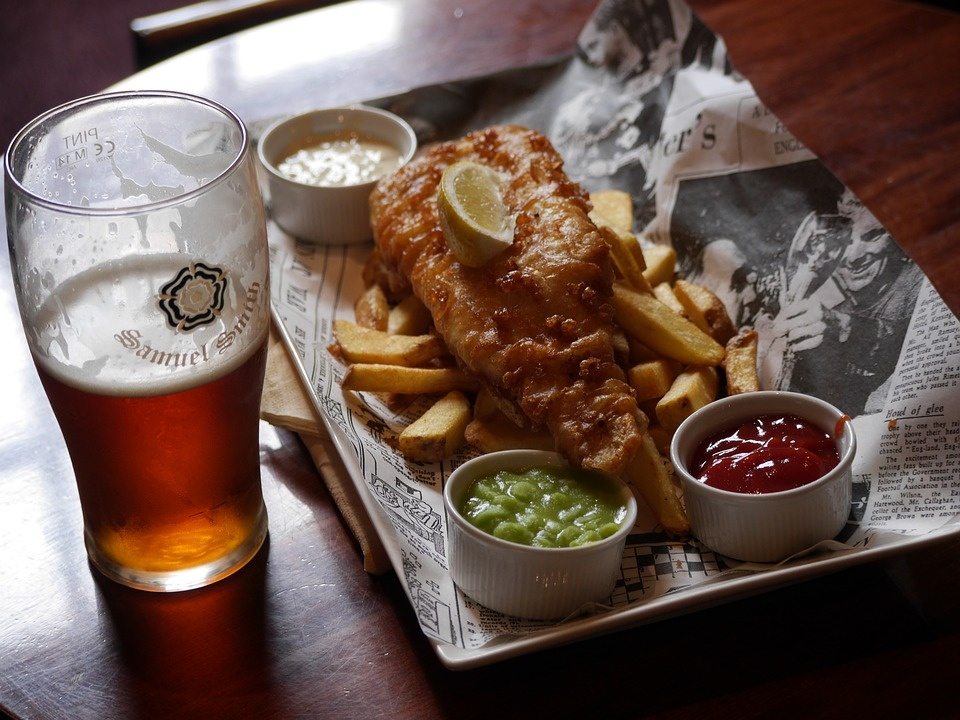glassBeer: (21, 83, 259, 635)
